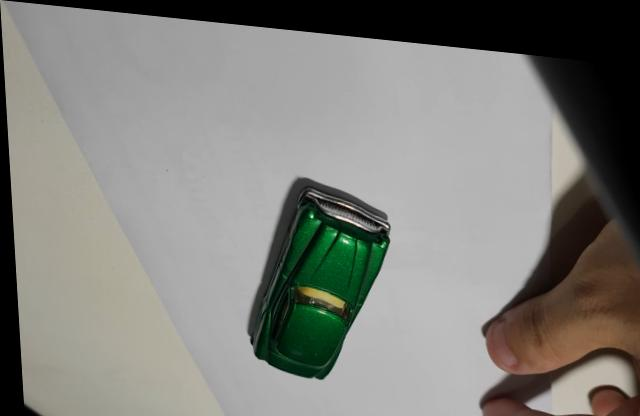06_MASERATI: (242, 179, 390, 372)
